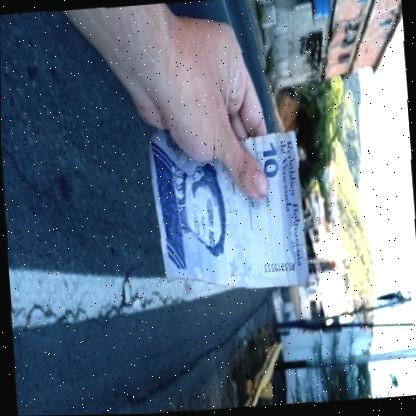vef_front: (147, 118, 309, 298)
